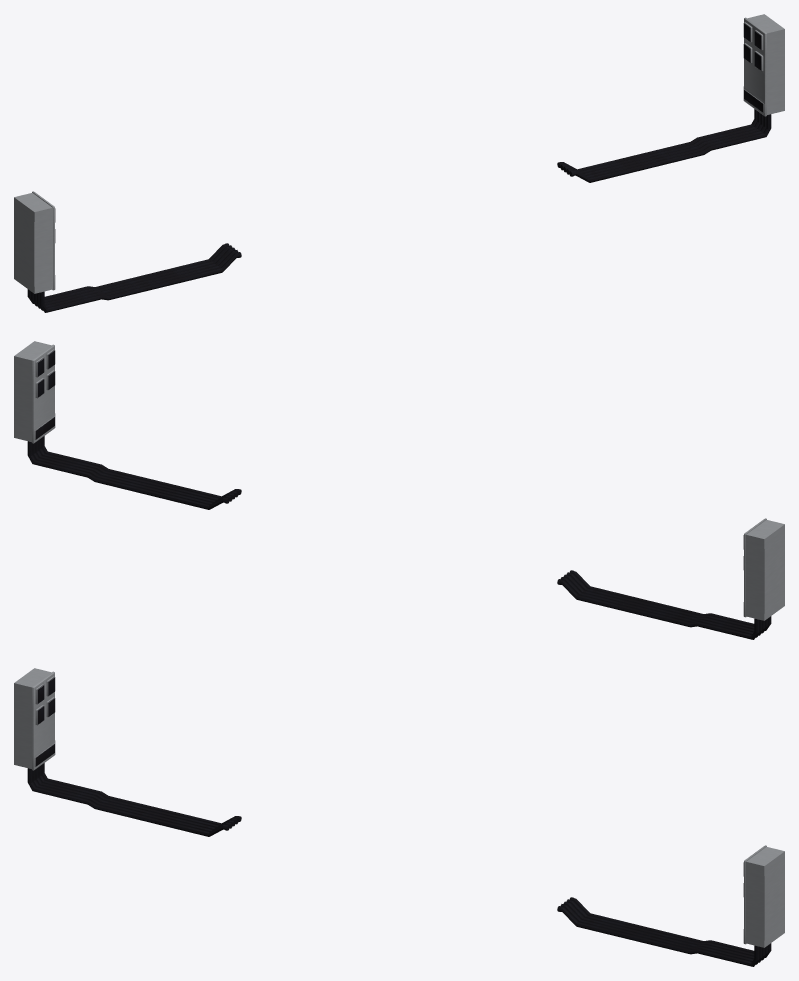
The model's file is corriente.fbx.
The picture shows the model from 3 angles, top to bottom: view 1: azimuth 30°, elevation 25°; view 2: azimuth 150°, elevation 25°; view 3: azimuth 330°, elevation 25°; orthographic projection.
Parts seen in each view (by area): view 1: generador_corriente; view 2: generador_corriente; view 3: generador_corriente.
Part boxes in pixels (bbox=[...]): generador_corriente: bbox=[14, 14, 784, 312]; generador_corriente: bbox=[14, 341, 784, 639]; generador_corriente: bbox=[14, 668, 784, 966].
Bounding box in the file's own units: 4694 × 664 × 232.
Materials: 3 (3 with a texture image).
